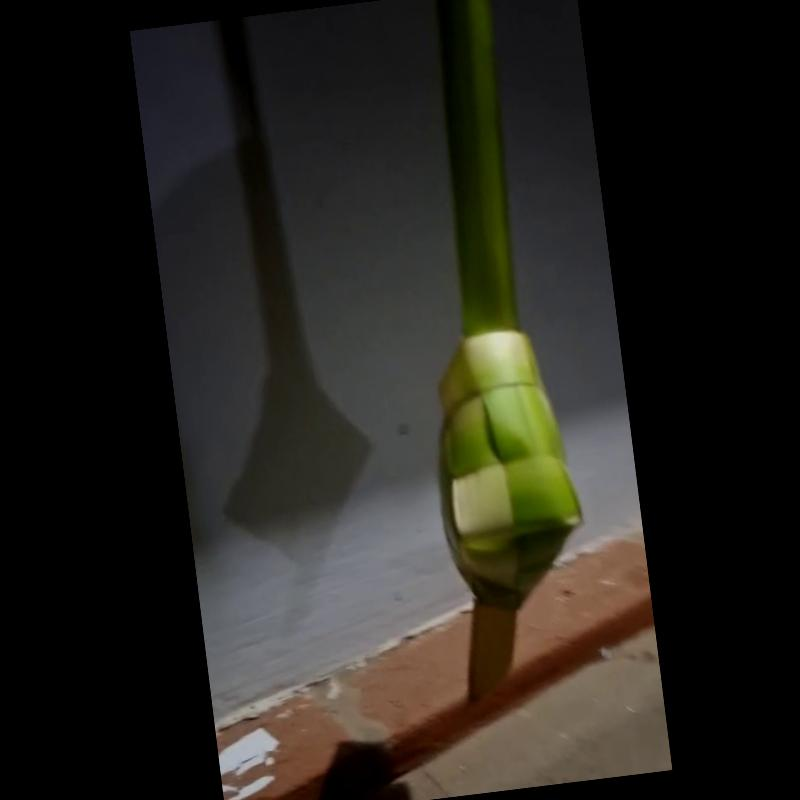Tipat Nasi: (434, 320, 586, 699)
